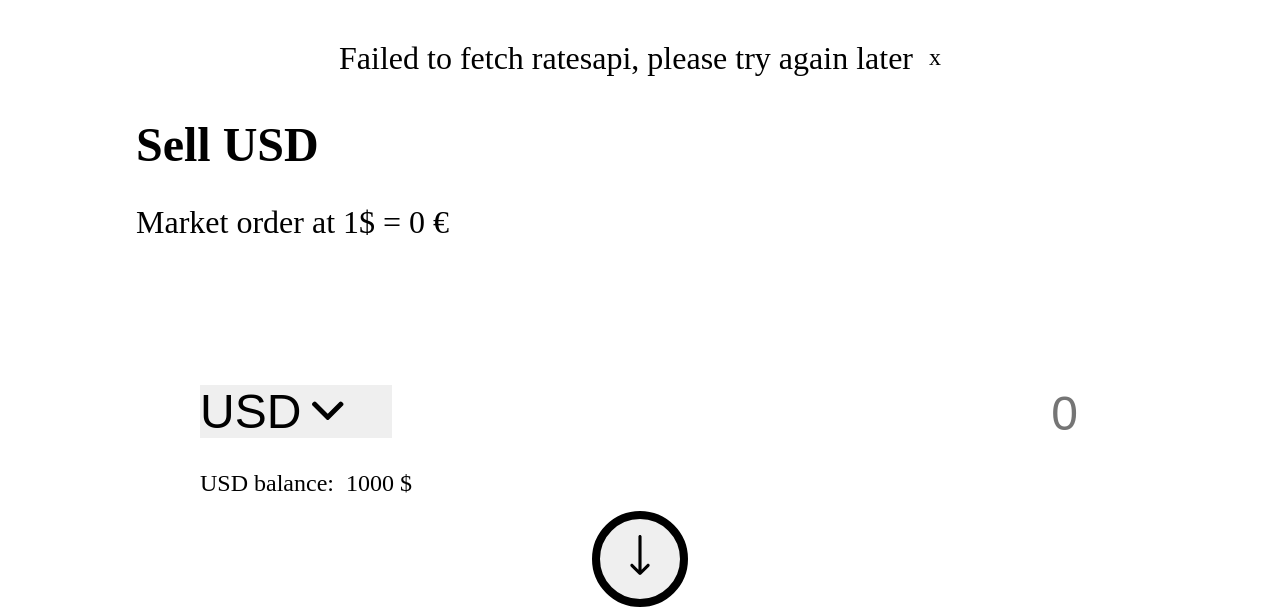
Scenario: Widget › should show error when fetch failed
Expected: the text "Failed to fetch ratesapi, please try again later" is shown, left=339, top=40, right=913, bottom=76
Click the text with test id "close-error-msg".
click(935, 60)  # box left=929, top=44, right=941, bottom=77
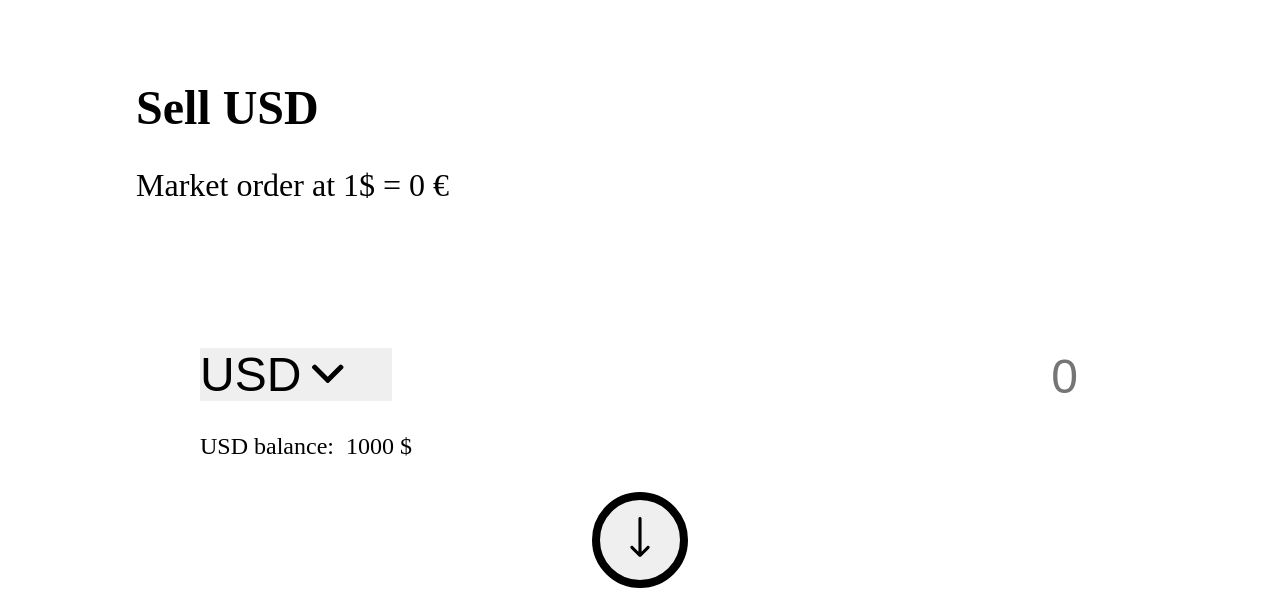
Result: the text "Failed to fetch ratesapi, please try again later" is not shown
